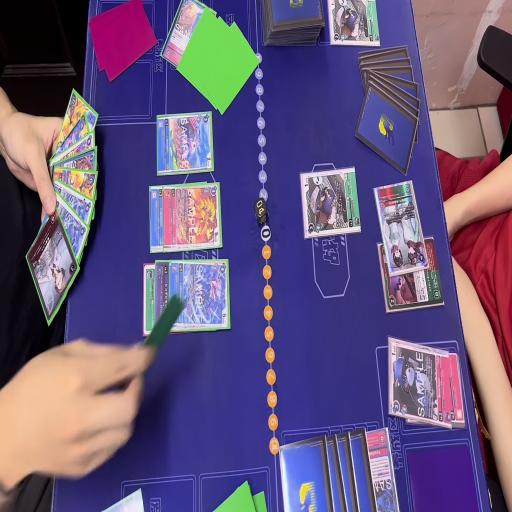card: (388, 337, 453, 434), (28, 211, 76, 321), (373, 176, 429, 268), (167, 256, 231, 335), (377, 236, 445, 310), (298, 166, 361, 237), (162, 186, 224, 250), (160, 0, 214, 71), (156, 114, 213, 174), (47, 90, 99, 154), (364, 426, 402, 512), (49, 194, 89, 265), (328, 0, 384, 50), (44, 112, 87, 167), (46, 130, 95, 178), (49, 180, 96, 222), (48, 168, 99, 204), (50, 145, 101, 179), (448, 352, 468, 426), (142, 262, 159, 340), (155, 258, 173, 328), (148, 183, 165, 250)
